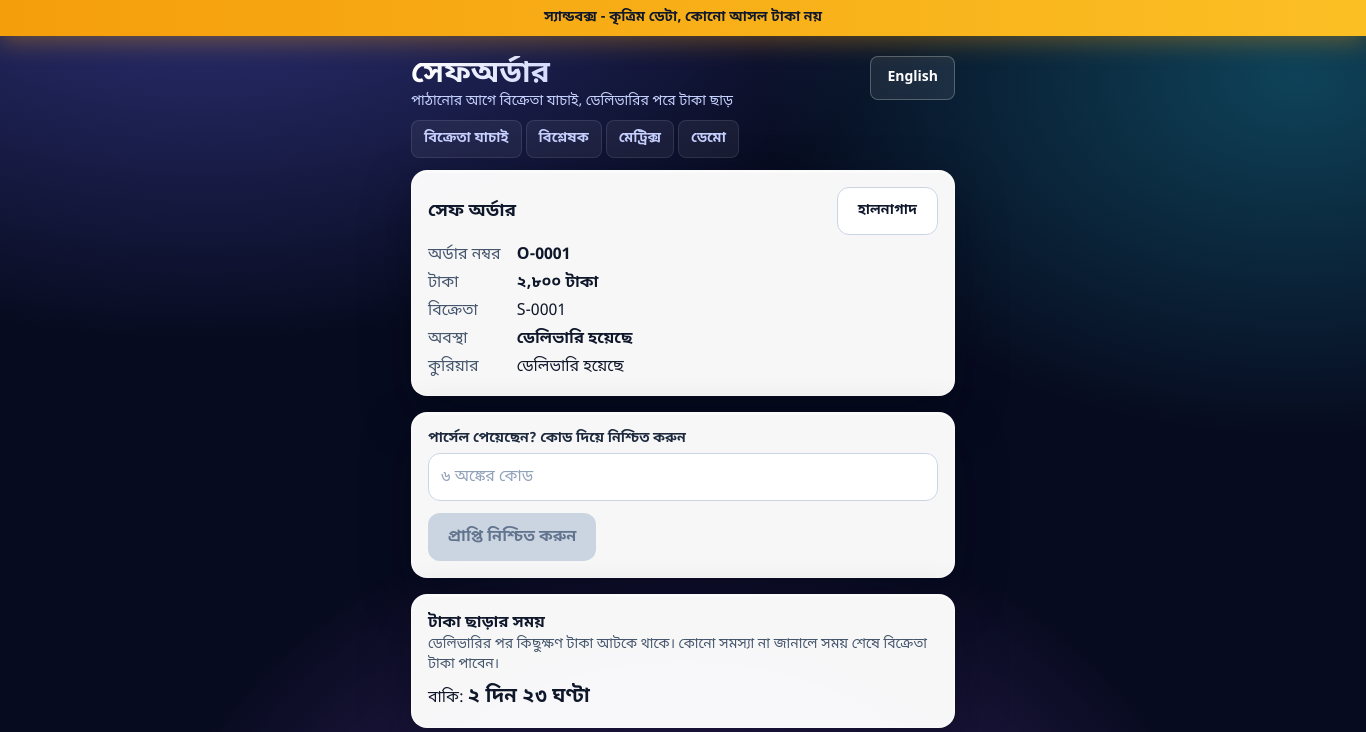
Test: Safe Order tracker › shows the money released after the clock passes the hold period
The width and height of the screenshot is (1366, 732).
Expected: the element named "hold-timer" is shown, [411,594,955,728]
Click the button "হালনাগাদ".
click(887, 211)  # box [837,187,938,235]
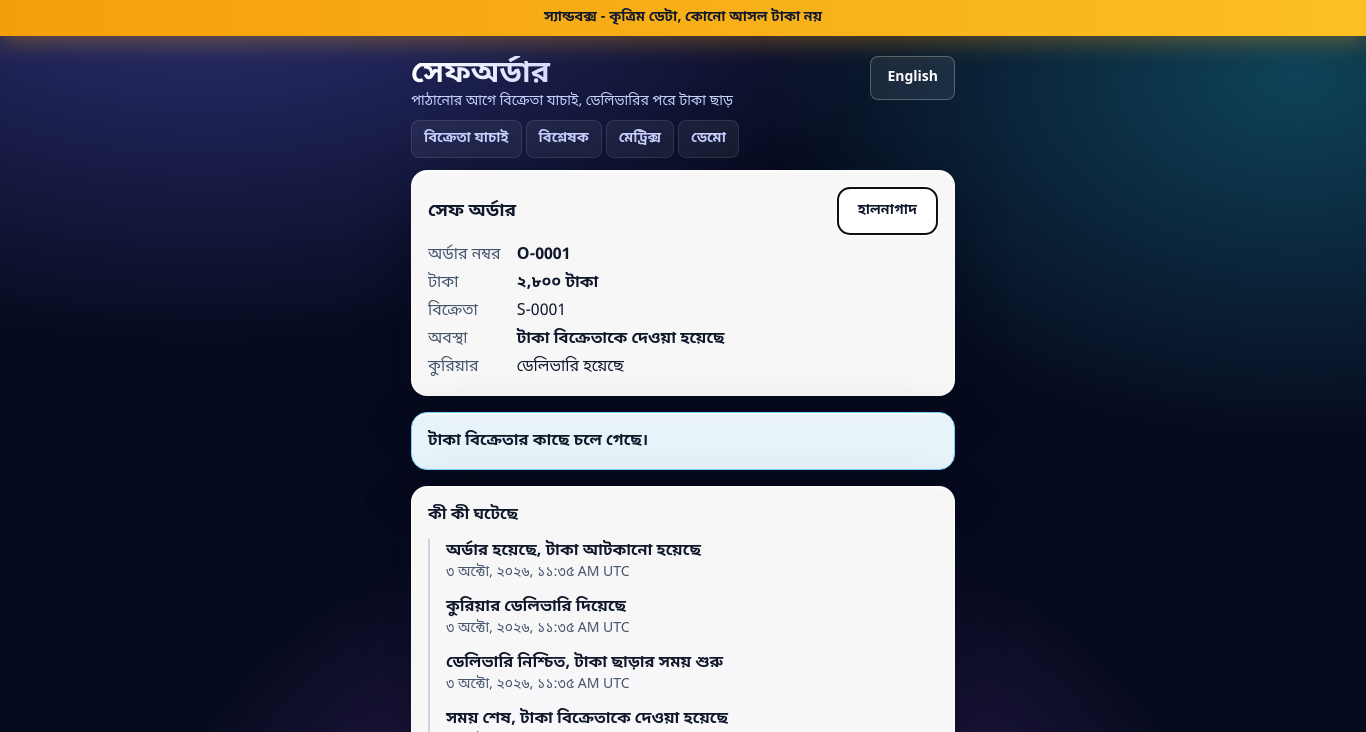
Expected: the text "টাকা বিক্রেতার কাছে চলে গেছে।" is shown, [428,430,648,452]
